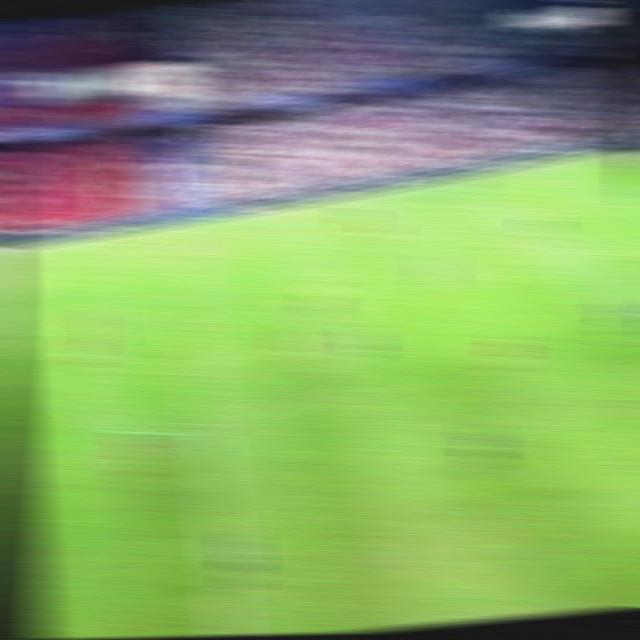bigarea_top_inner: (508, 200, 541, 215)
corner: (585, 146, 621, 159)
halfcircle_bottom: (184, 411, 226, 439)
halfcircle_top: (170, 302, 214, 327)
midline_top_intersection: (165, 217, 201, 235)
top_arc_area_intersection: (568, 242, 601, 258)
